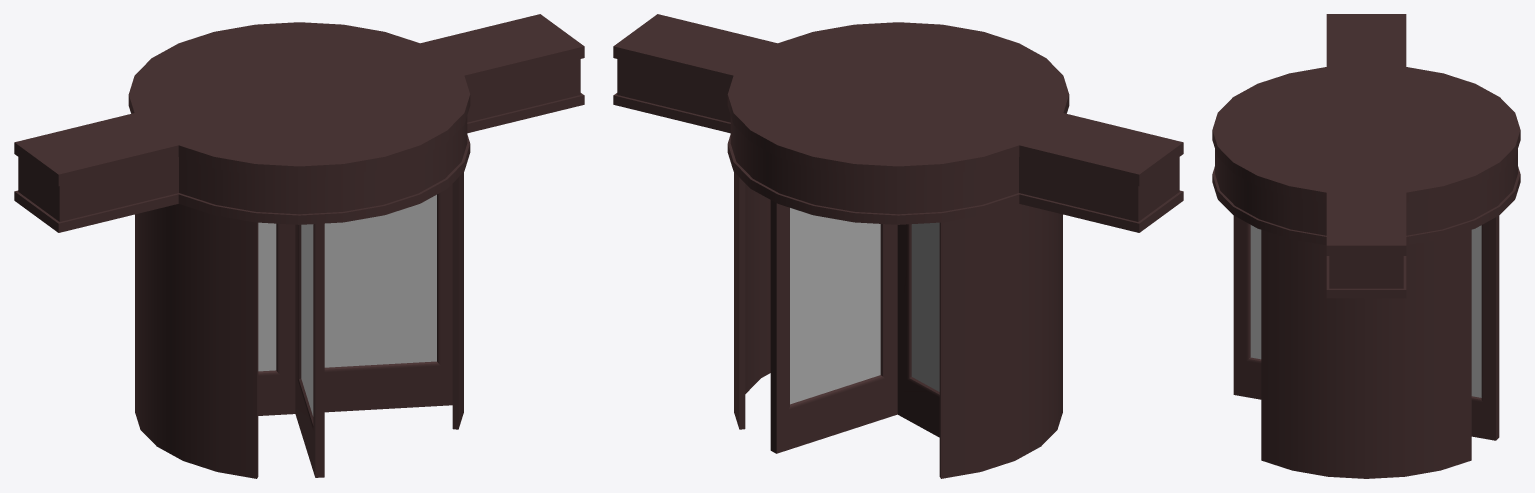
File: LobbyRevolvingDoor.fbx
The picture shows the model from 3 angles, left to right: view 1: azimuth 30°, elevation 25°; view 2: azimuth 150°, elevation 25°; view 3: azimuth 270°, elevation 25°; orthographic projection. The views are drawn at different scales.
Parts seen in each view (by area): view 1: RevolvingDoorFrame, RevolvingDoor; view 2: RevolvingDoorFrame, RevolvingDoor; view 3: RevolvingDoorFrame, RevolvingDoor.
Part boxes in pixels (x1,y1,x2,y2): RevolvingDoorFrame: (14,14,584,478); RevolvingDoor: (258,184,452,477); RevolvingDoorFrame: (613,14,1183,478); RevolvingDoor: (770,200,939,453); RevolvingDoorFrame: (1212,14,1520,478); RevolvingDoor: (1233,215,1499,440).
Size of the model in its own units: 4.49 by 2.59 by 2.53.
